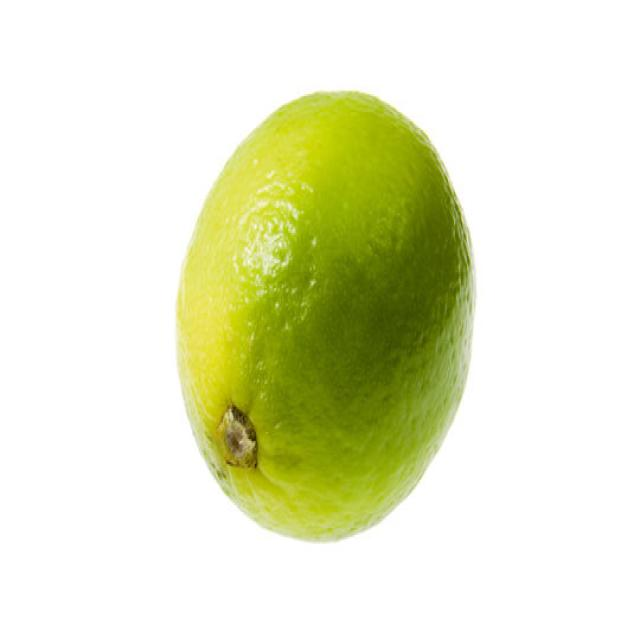Lemon: (174, 87, 476, 542)
